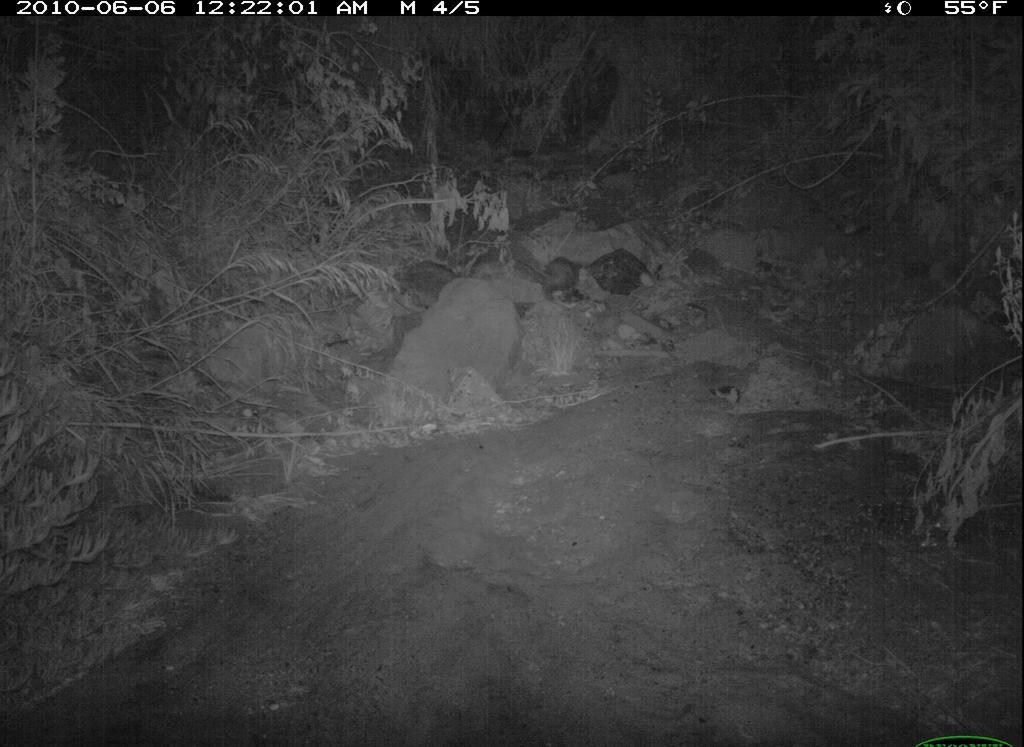opossum: (500, 236, 607, 311)
